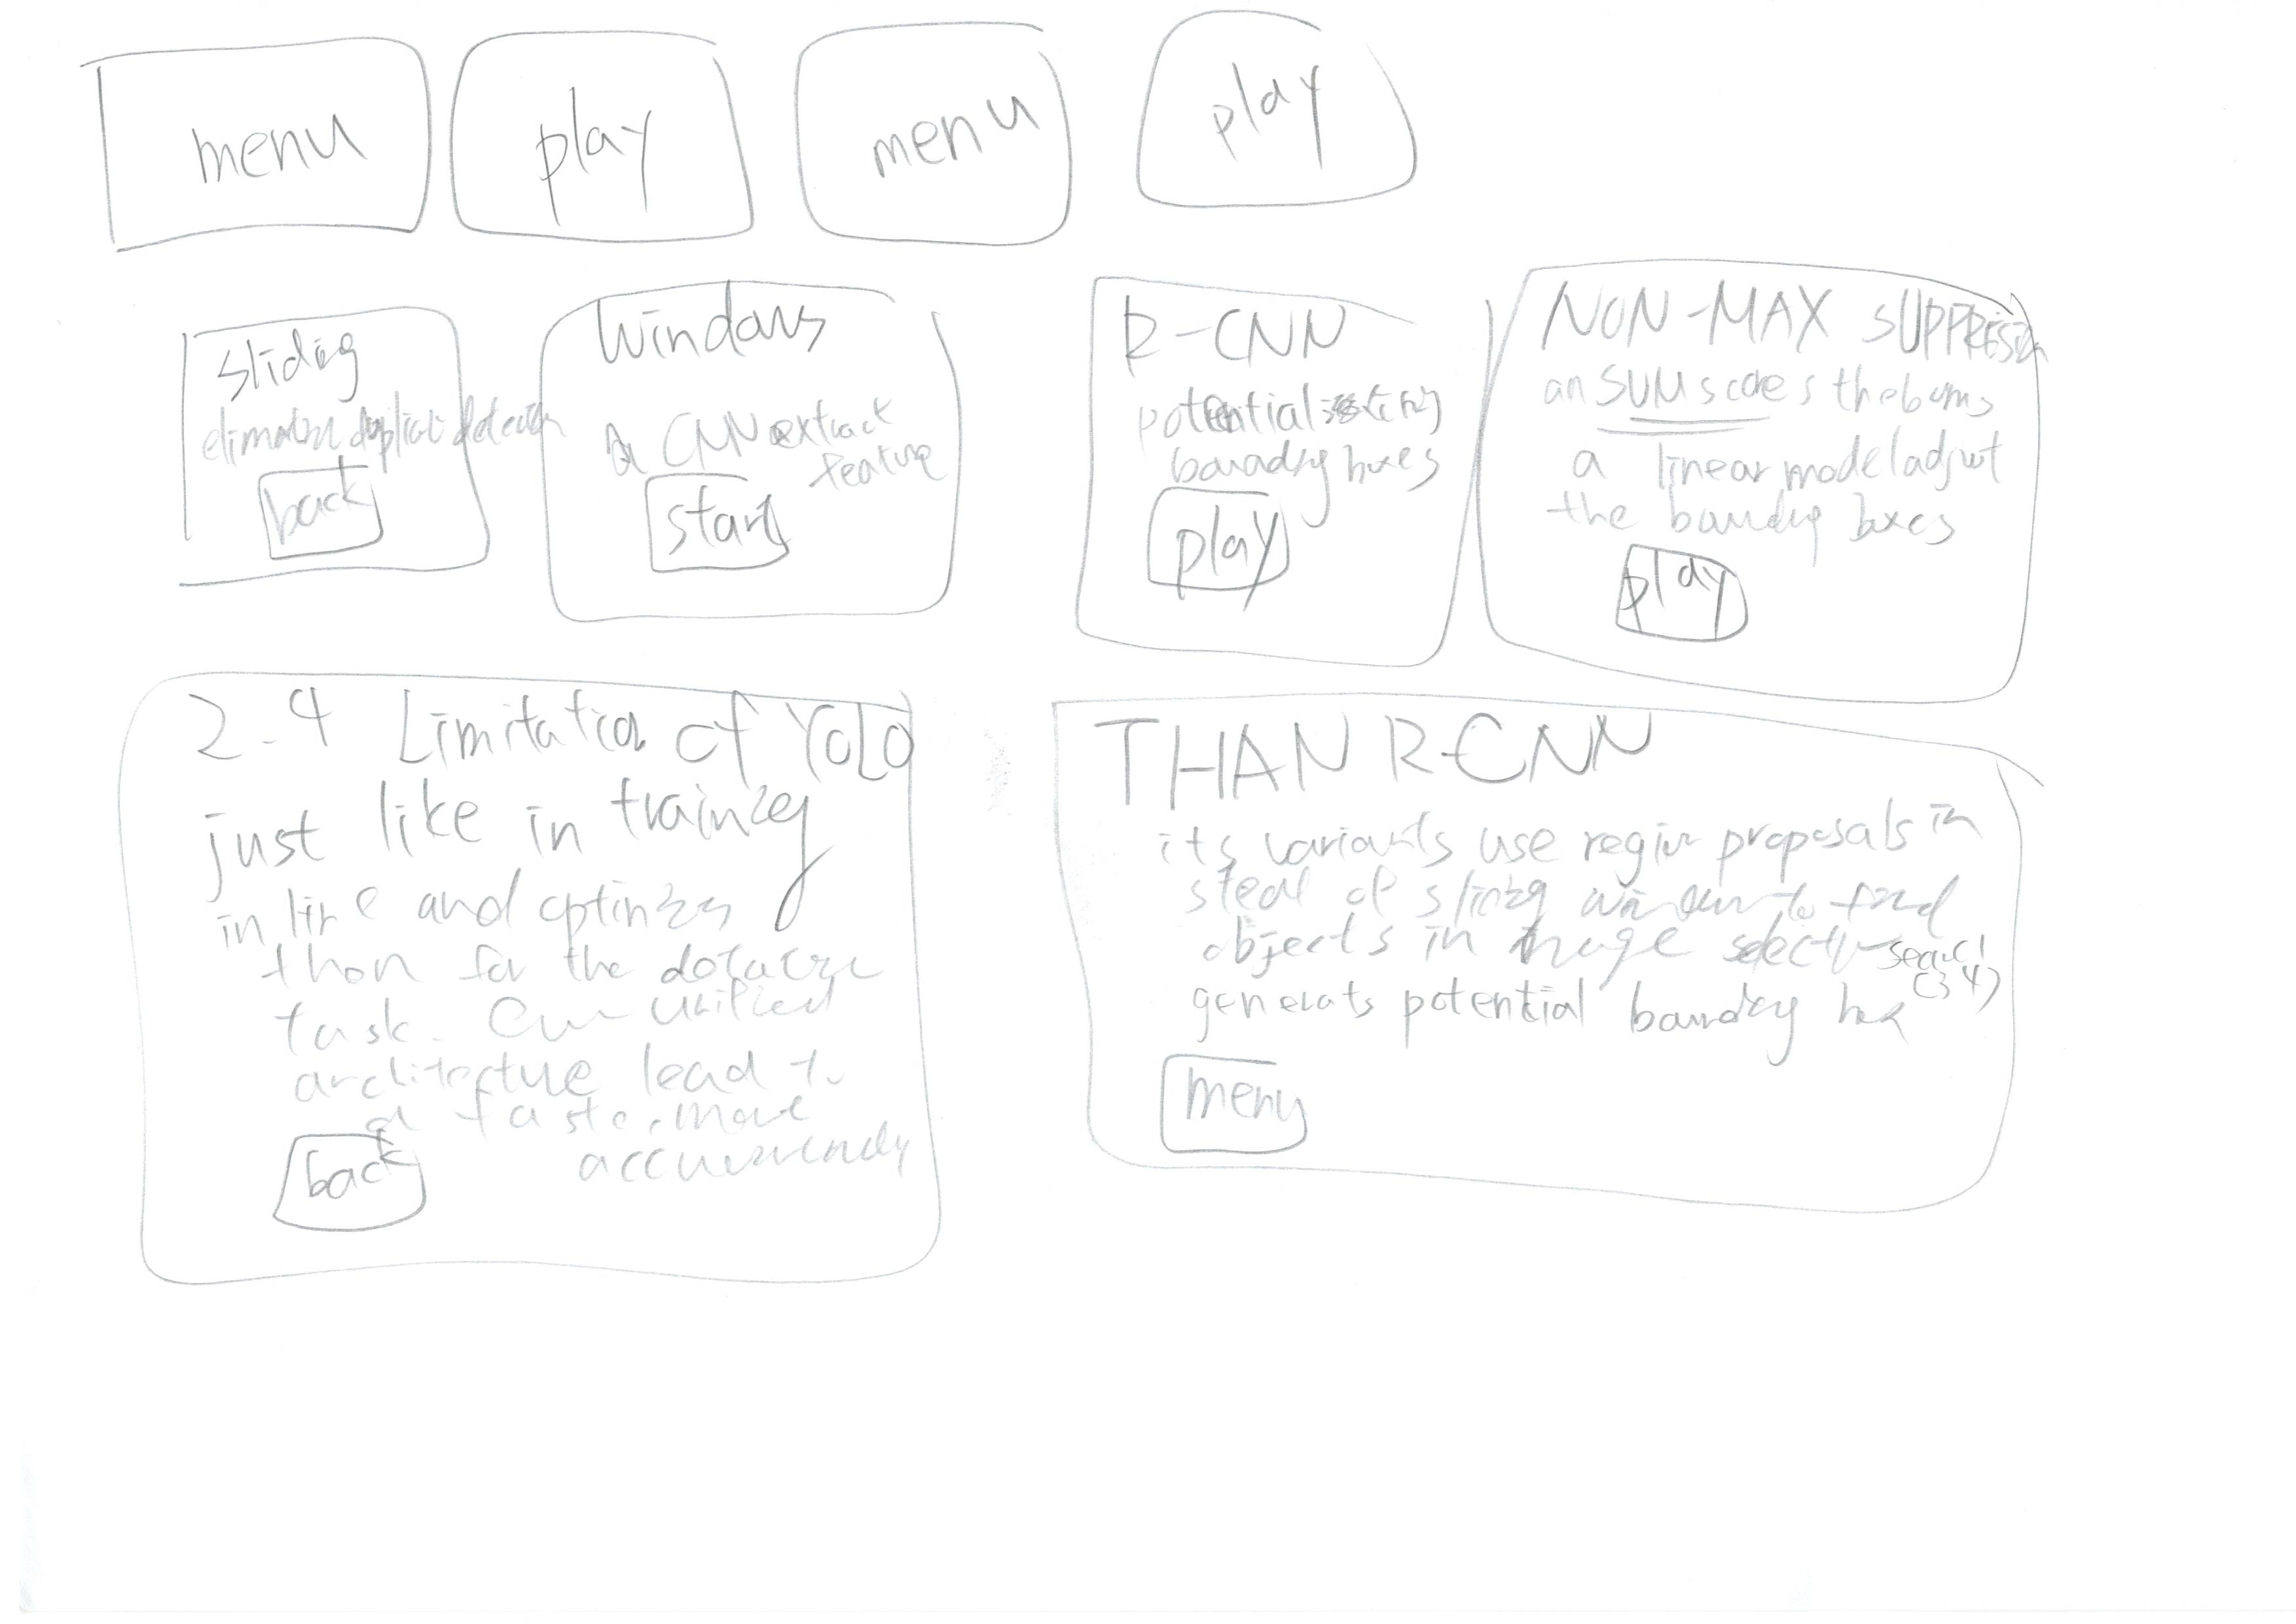back: (262, 1120, 466, 1250), (223, 453, 424, 571)
double: (53, 643, 997, 1329), (1037, 638, 2097, 1225)
menu: (60, 26, 445, 274), (759, 9, 1113, 272), (1136, 1032, 1331, 1172)
play: (431, 0, 763, 272), (1118, 0, 1445, 225), (1116, 475, 1310, 626), (1591, 529, 1790, 671)
quadruple: (1443, 236, 2074, 731), (508, 253, 1021, 656), (1018, 258, 1496, 689), (97, 269, 534, 649)
row: (9, 659, 2296, 1288), (9, 236, 2296, 708), (9, 7, 2296, 285)
small-title: (165, 687, 884, 875), (1102, 701, 1651, 807), (1559, 267, 2055, 371), (1134, 301, 1352, 378), (584, 302, 842, 362), (209, 332, 385, 392)
start: (603, 466, 802, 587)
text: (211, 881, 909, 1193), (1146, 805, 1967, 1032), (1572, 366, 2008, 557), (1146, 387, 1459, 487), (592, 402, 919, 475), (195, 408, 564, 457)
